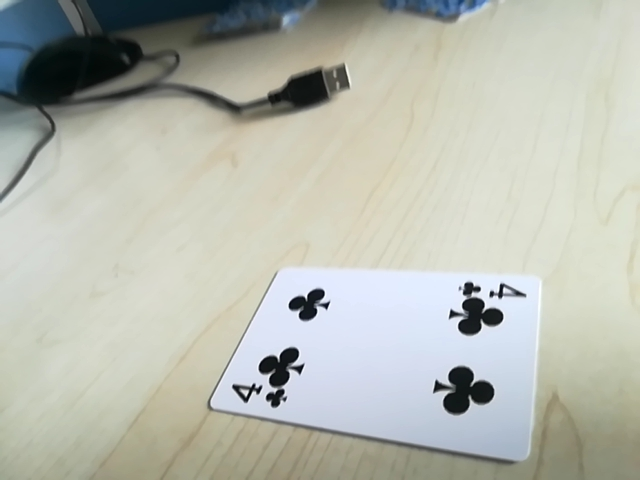mh 4: (222, 378, 292, 413), (457, 276, 528, 303)
